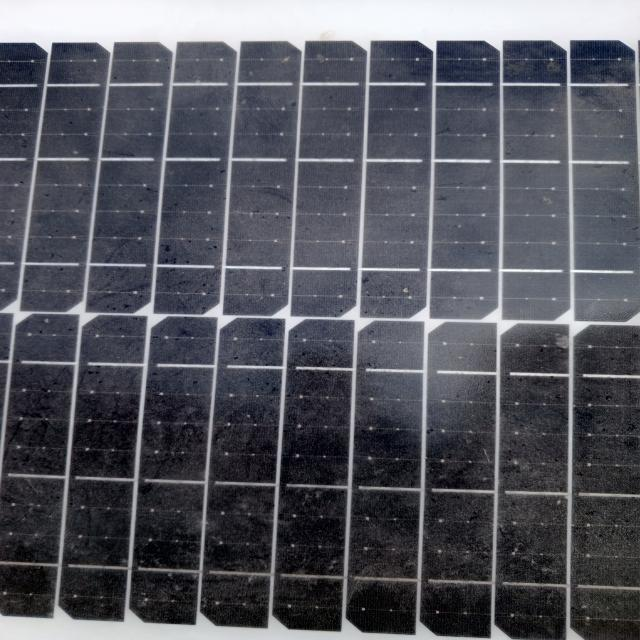Surface Contaminant: (20, 21, 639, 624)
